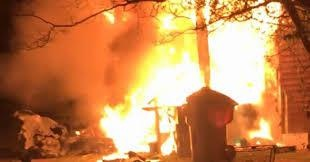fire: (94, 7, 205, 154), (248, 116, 273, 142)
